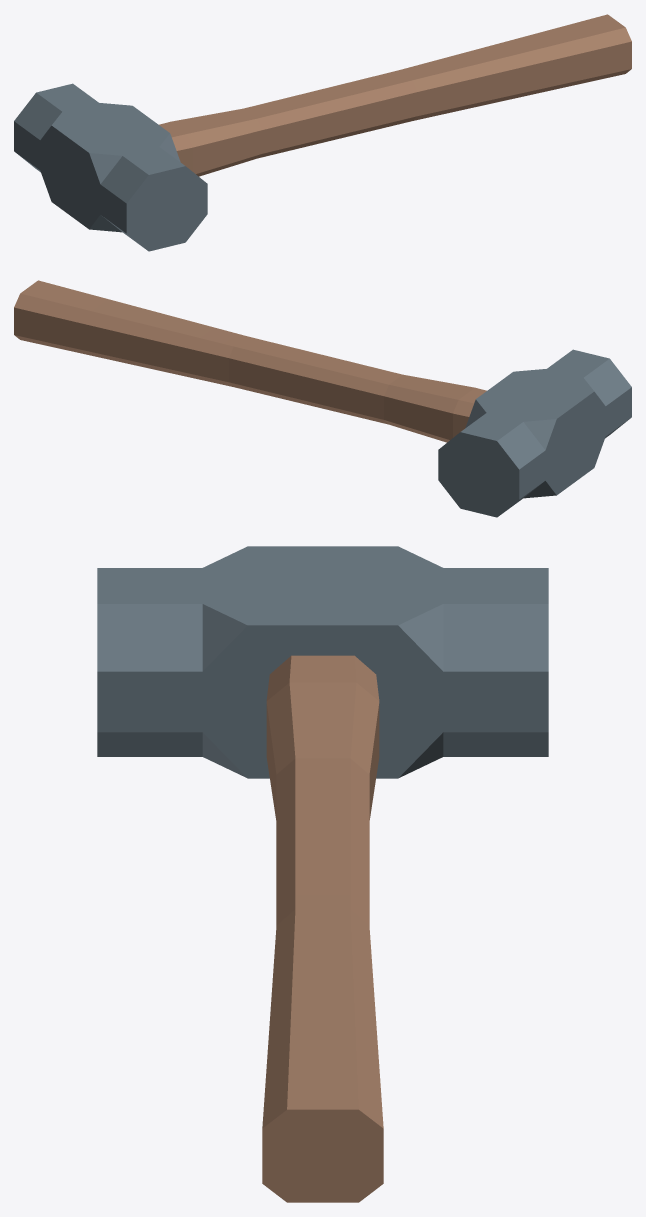
The model's file is SledgehammerFixedNormals.fbx.
3 views of the same model, one above another, from view 1: azimuth 30°, elevation 25°; view 2: azimuth 150°, elevation 25°; view 3: azimuth 270°, elevation 25° (orthographic). The views are drawn at different scales.
Parts seen in each view (by area): view 1: Handle, Head; view 2: Handle, Head; view 3: Head, Handle.
Boxes of the visible parts, box(x1,y1,x2,y2) form: Handle: box(159, 14, 631, 176); Head: box(14, 83, 207, 251); Handle: box(14, 280, 486, 442); Head: box(438, 349, 631, 517); Head: box(97, 546, 548, 778); Handle: box(262, 655, 383, 1202).
Size of the model in its own units: 83.57 by 11.19 by 29.87.
